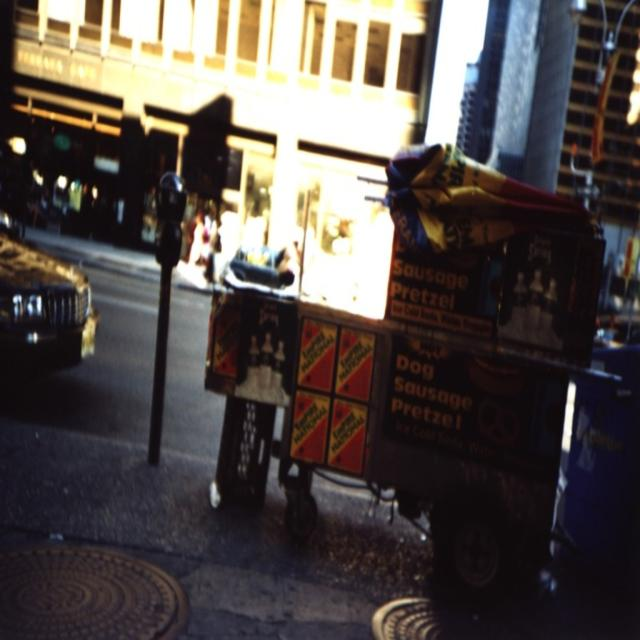car: (0, 238, 82, 377)
